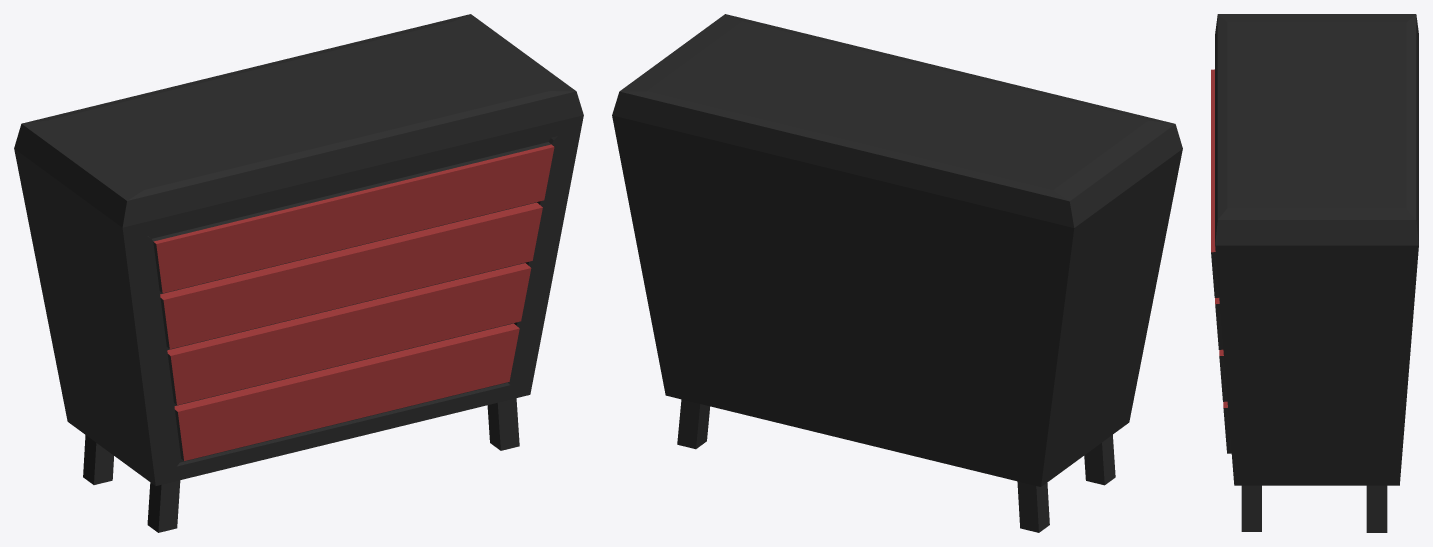
The model's file is Bancada.fbx.
3 views of the same model, side by side, from view 1: azimuth 30°, elevation 25°; view 2: azimuth 150°, elevation 25°; view 3: azimuth 270°, elevation 25° (orthographic). The views are drawn at different scales.
Parts seen in each view (by area): view 1: Cube.009; view 2: Cube.009; view 3: Cube.009.
Part boxes in pixels (x1,y1,x2,y2): Cube.009: [14, 14, 583, 532]; Cube.009: [612, 14, 1182, 532]; Cube.009: [1211, 14, 1418, 532].
Size of the model in its own units: 480 by 353 by 199.
